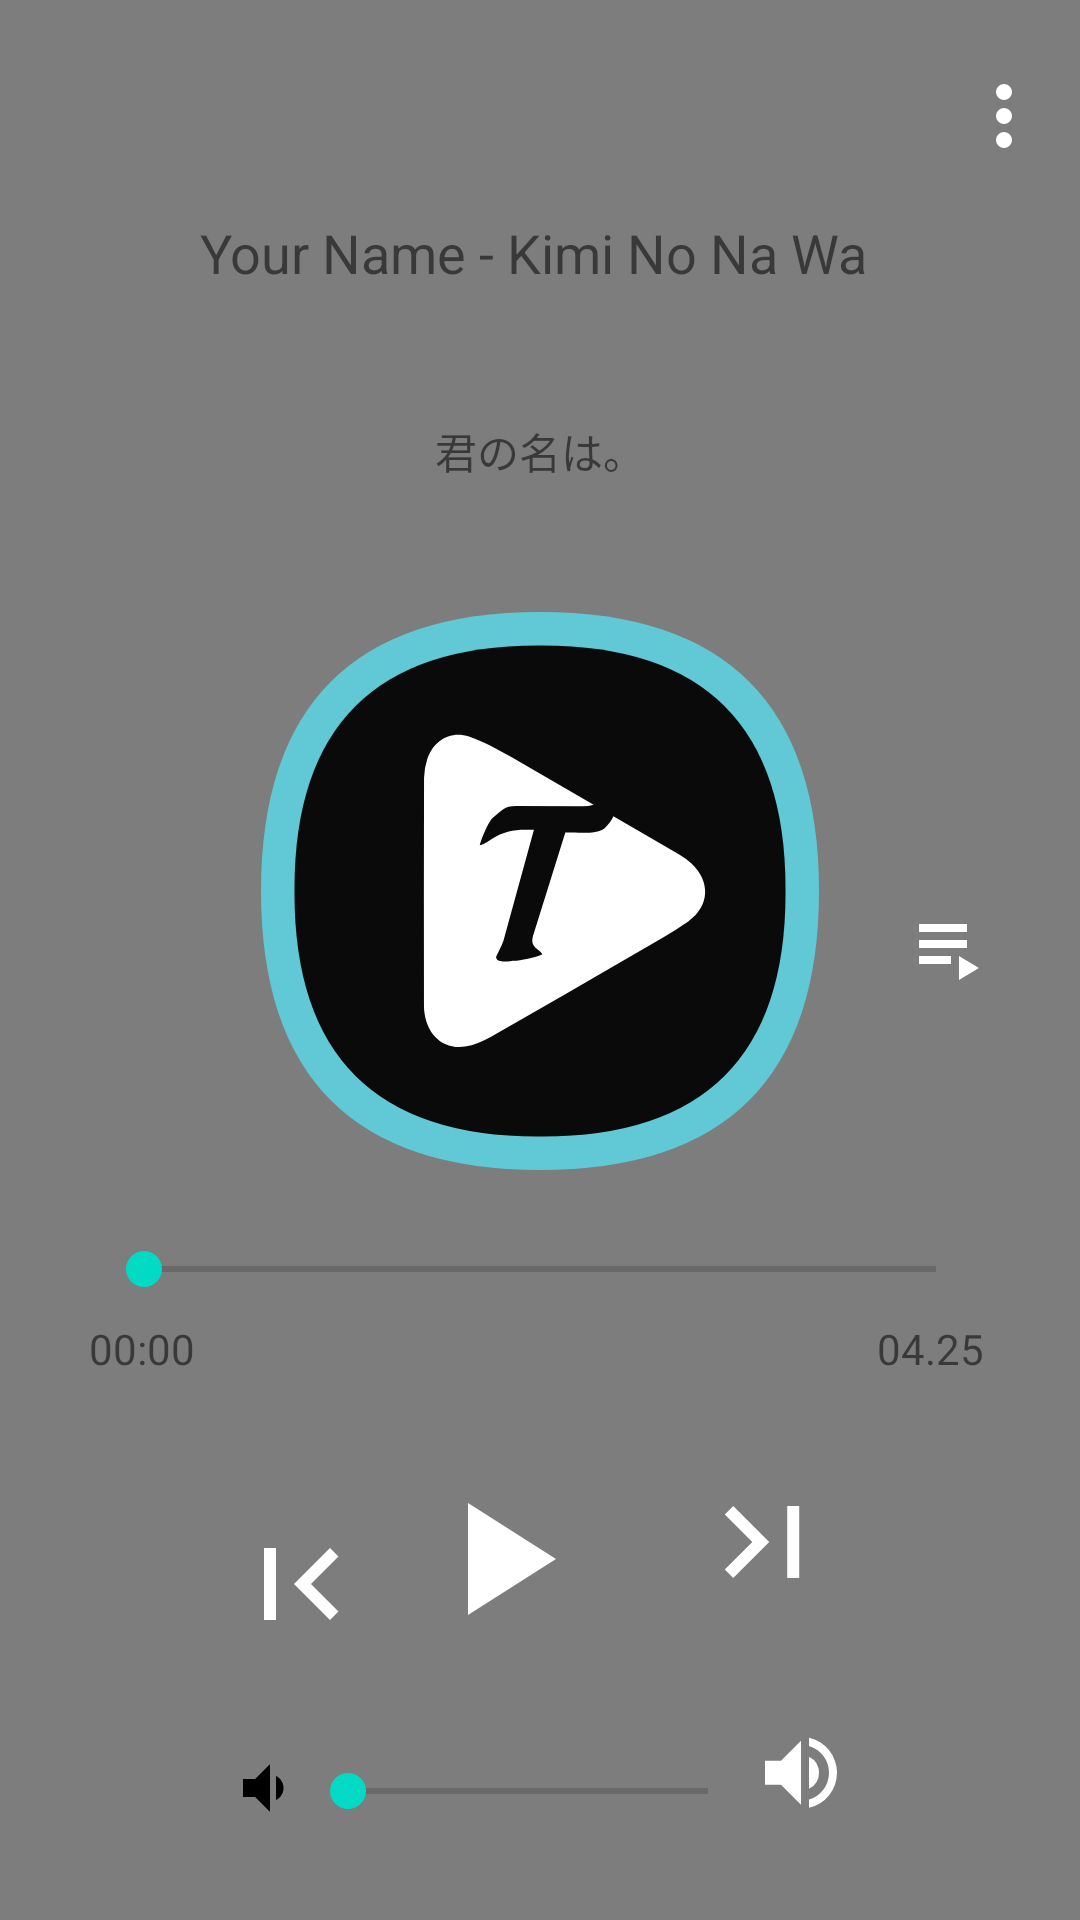

Where to tap for icons on this 1080×1920 app screen, as (x=x, y=y):
first page: (x=301, y=1584)
last page: (x=762, y=1542)
more: (x=1004, y=116)
play arrow: (x=512, y=1559)
playlist play: (x=949, y=952)
volume down: (x=263, y=1788)
volume up: (x=801, y=1773)
